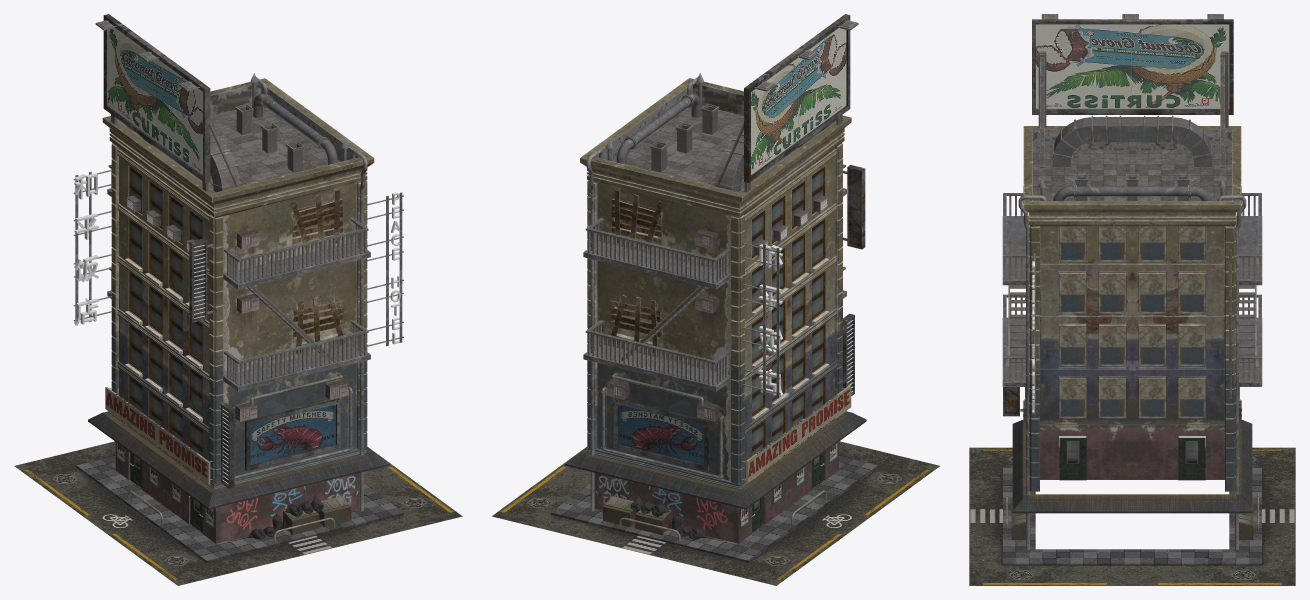
The model's file is Hotel.fbx.
3 renders of one model, left to right at view 1: azimuth 30°, elevation 25°; view 2: azimuth 150°, elevation 25°; view 3: azimuth 270°, elevation 25°, orthographic.
Parts seen in each view (by area): view 1: Object008; view 2: Object008; view 3: Object008.
Boxes of the visible parts, left/top/right/bottom form: Object008: left=14, top=14, right=462, bottom=585; Object008: left=492, top=14, right=939, bottom=585; Object008: left=969, top=14, right=1295, bottom=585.
Size of the model in its own units: 1800 by 2778 by 1794.
2 materials, 1 textured.
